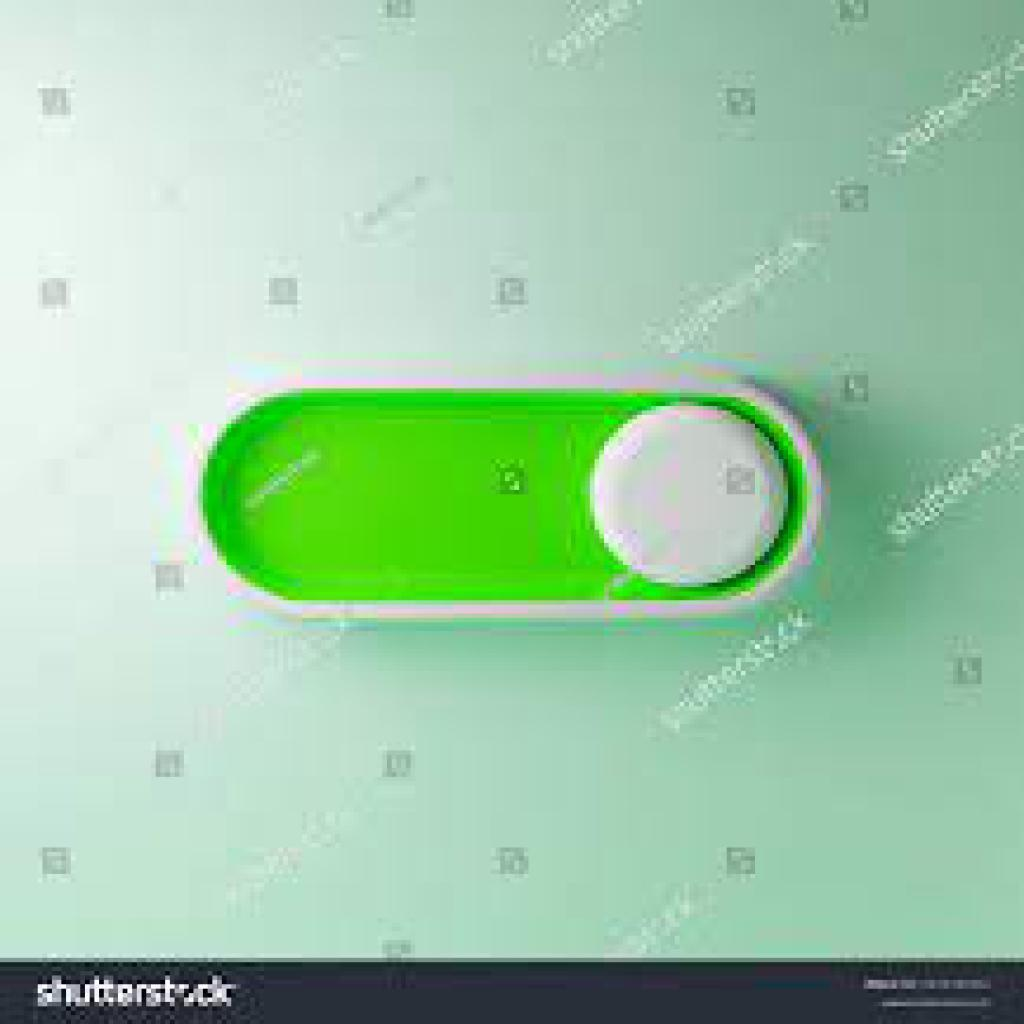switch: (205, 390, 825, 613)
